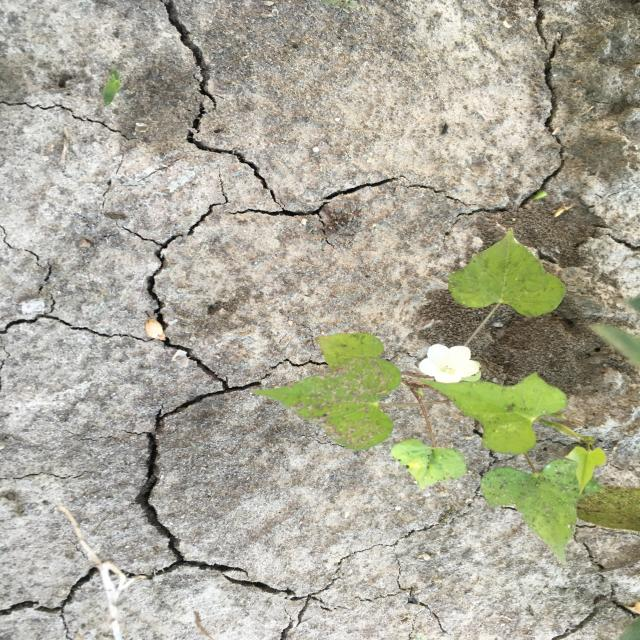MorningGlory: (246, 225, 610, 568)
